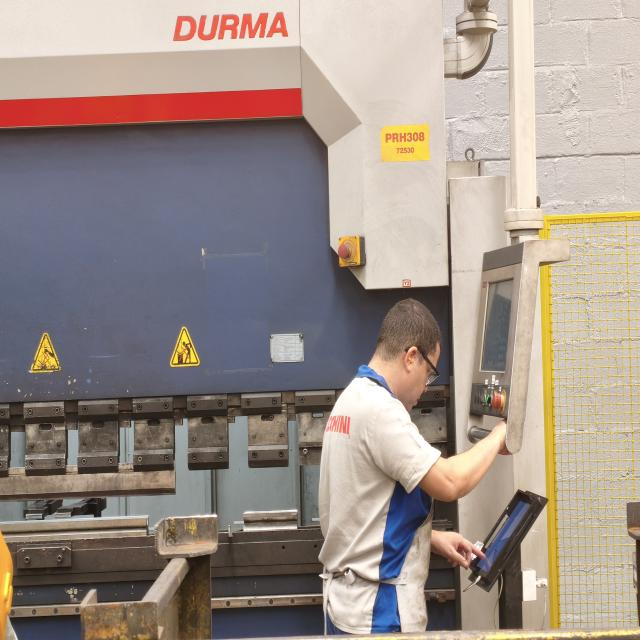oculos-epi: (404, 347, 439, 384)
